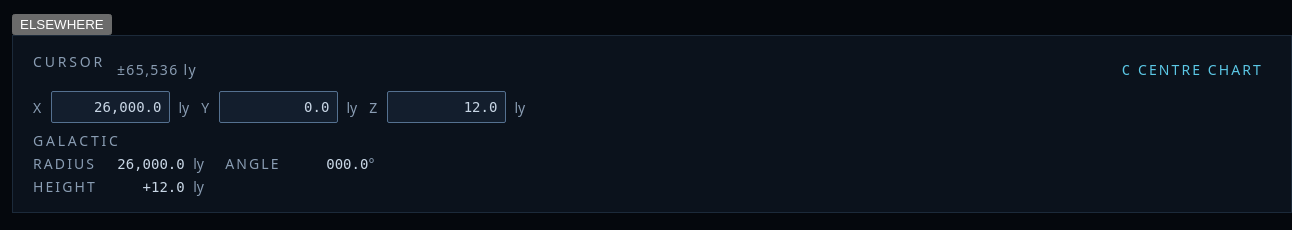
Test: CentreEntry › moves the cursor when a coordinate in range is entered
Replace the text in the field labelled "X" with "-30000" at (111, 107), box [51, 91, 170, 123]
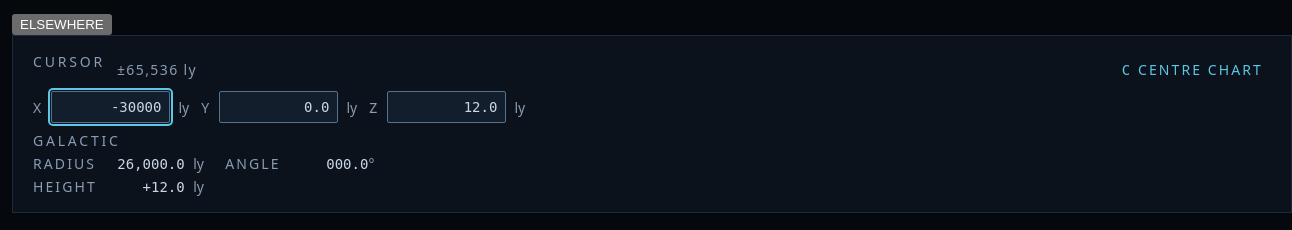
Press Tab
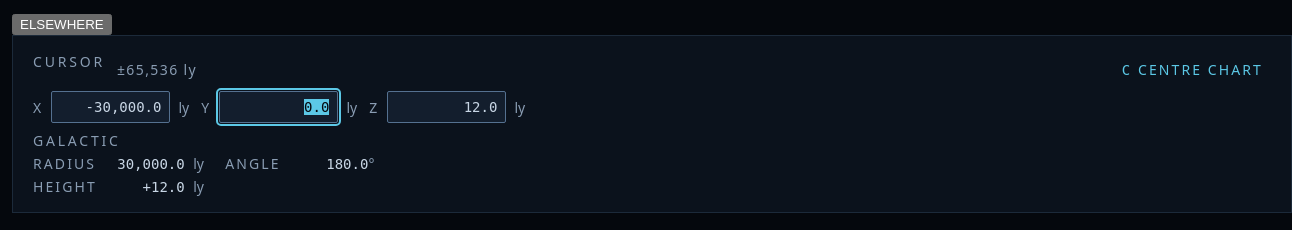
Expected: the element showing "30,000.0 ly" is shown, [117, 154, 204, 173]
